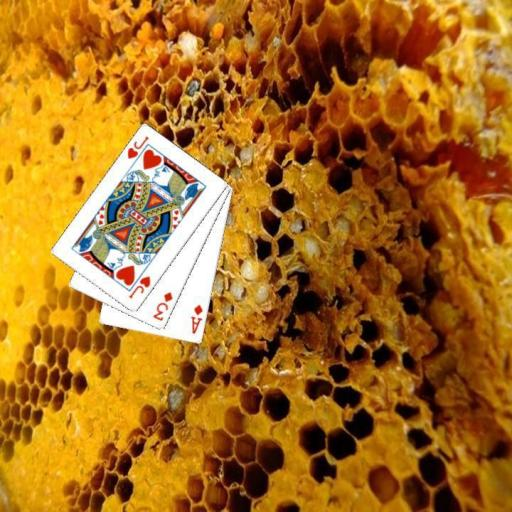card-corner: (150, 289, 174, 323), (124, 133, 150, 161), (126, 273, 152, 300), (188, 302, 204, 336)
